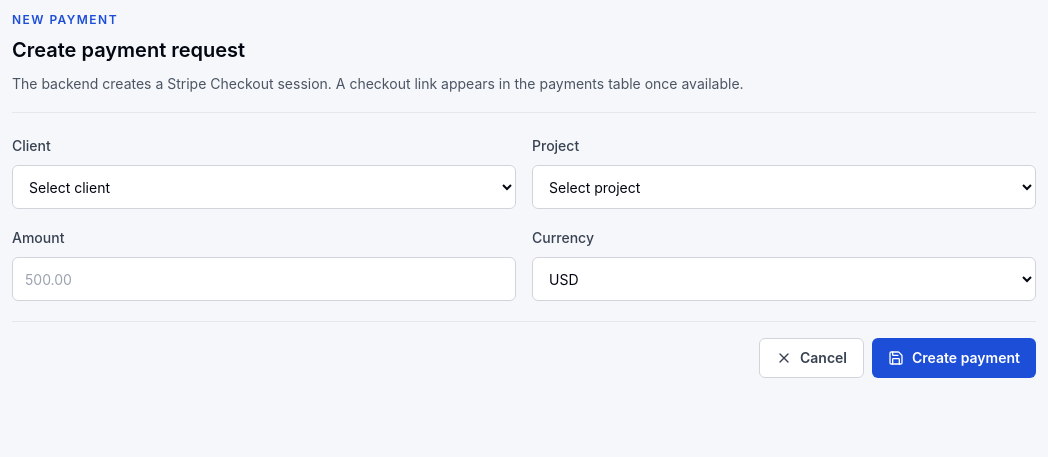
Test case: PaymentForm › validates amount according to current behavior
The width and height of the screenshot is (1048, 457).
Select "client_one #100" in the dropdown labelled "Client" at {"x": 264, "y": 187}, box [12,165,516,209]
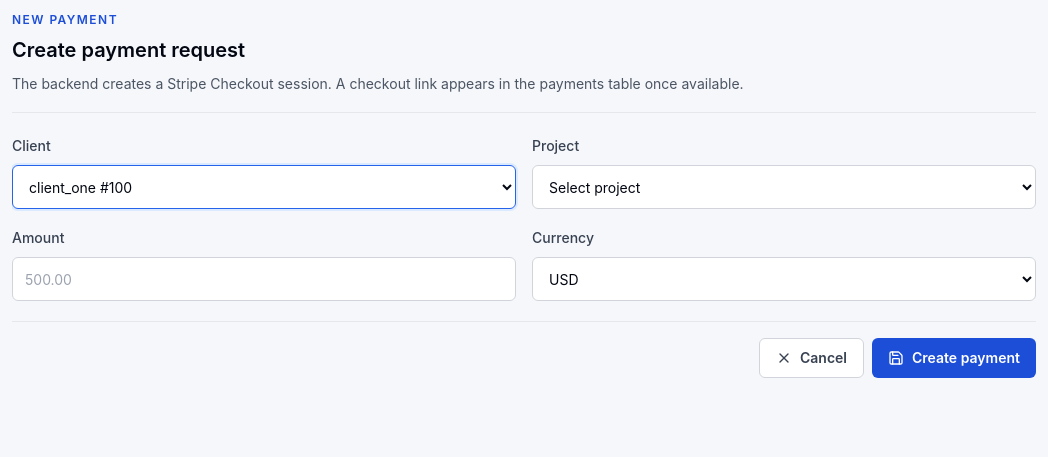
Select "Lakeview Renovation #10" in the dropdown labelled "Project" at {"x": 784, "y": 187}, box [532,165,1036,209]
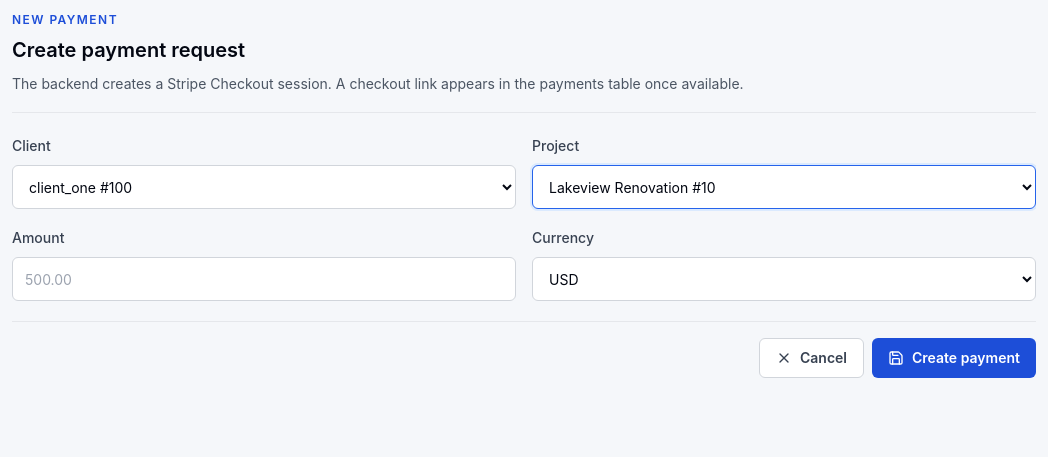
Type "0" into the field labelled "Amount".
click(264, 279); type("0")  # box [12,257,516,301]
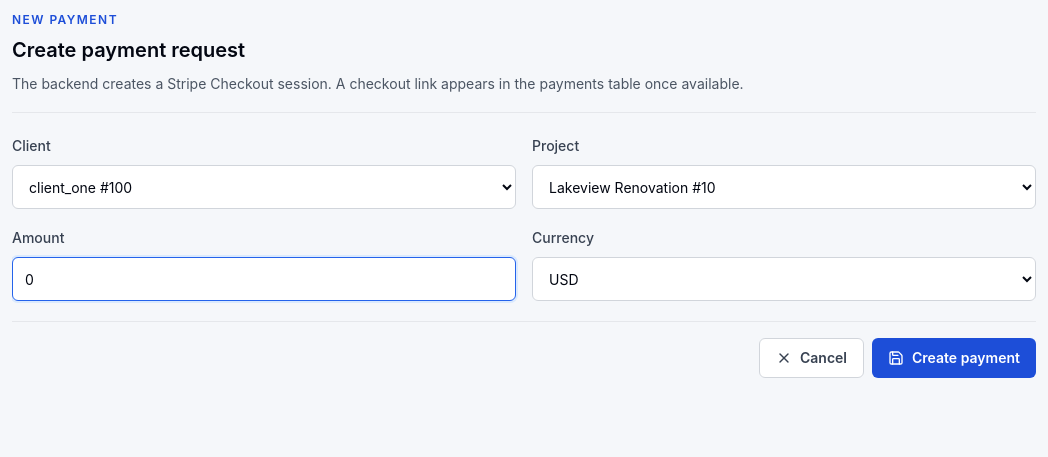
Submit the form "Create payment"
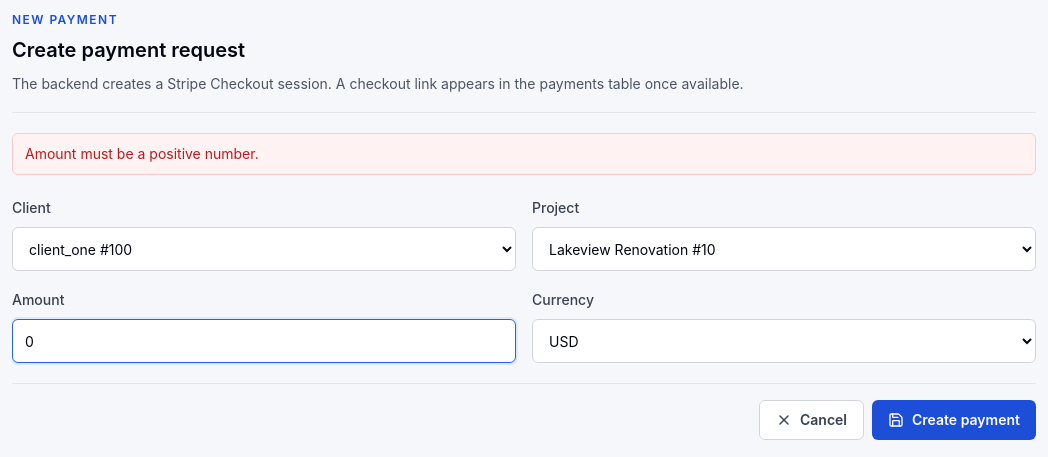
Expected: the text "Amount must be a positive number." is shown, [12,133,1036,175]
